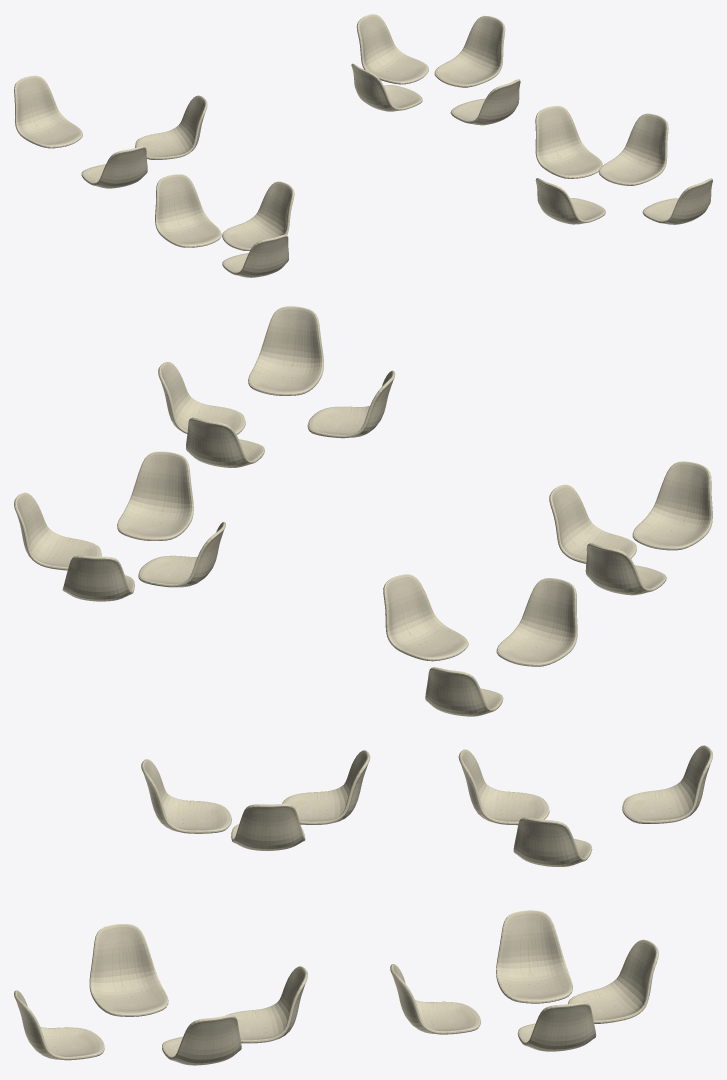
The model's file is SILLAS.gltf.
3 renders of one model, top to bottom at view 1: azimuth 30°, elevation 25°; view 2: azimuth 150°, elevation 25°; view 3: azimuth 270°, elevation 25°, orthographic. The views are drawn at different scales.
Parts seen in each view (by area): view 1: Cube.032; view 2: Cube.032; view 3: Cube.032.
Part boxes in pixels (x1,y1,x2,y2): Cube.032: (14, 14, 712, 277); Cube.032: (14, 306, 712, 716); Cube.032: (14, 745, 712, 1065).
Size of the model in its own units: 33.61 by 3.35 by 35.3.
Materials: 1 (1 with a texture image).
